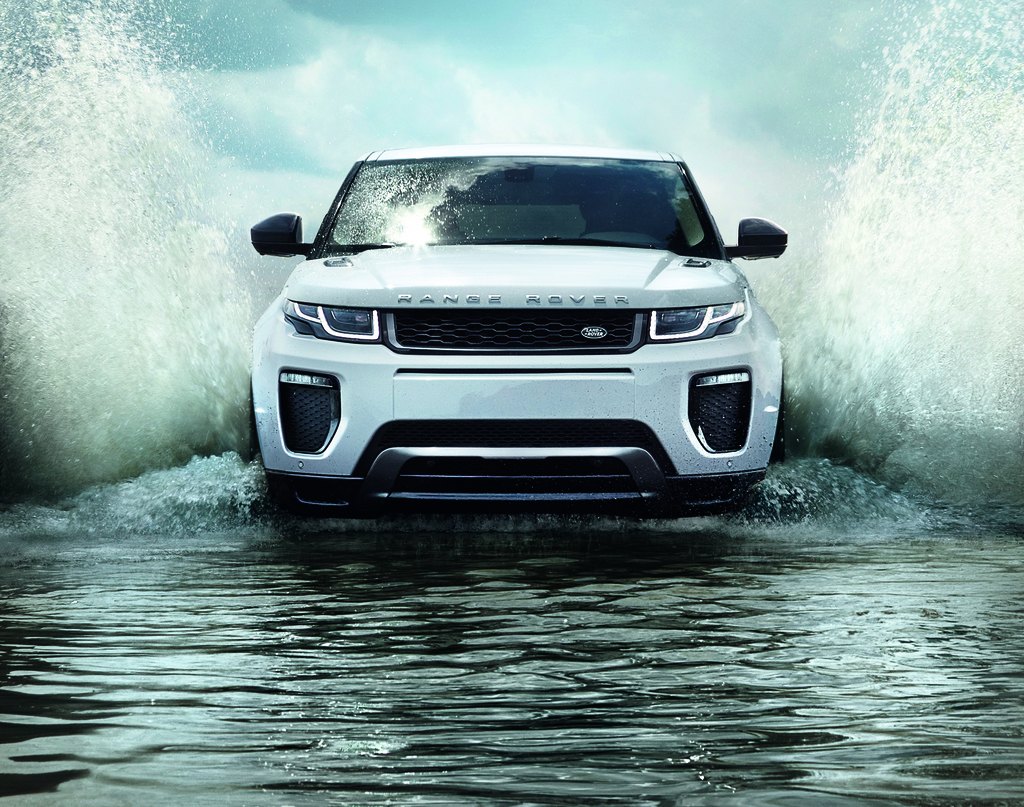Car: (236, 133, 782, 535)
